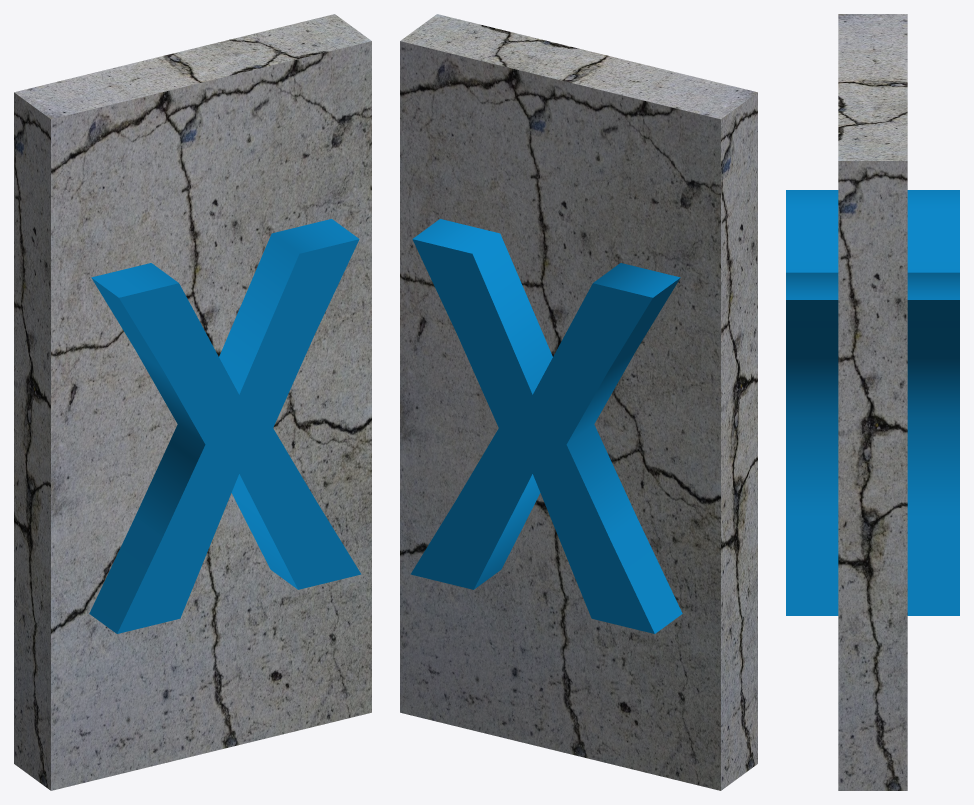
Rendered from stoneHibi_X.fbx.
The picture shows the model from 3 angles, left to right: view 1: azimuth 30°, elevation 25°; view 2: azimuth 150°, elevation 25°; view 3: azimuth 270°, elevation 25°; orthographic projection. The views are drawn at different scales.
Parts seen in each view (by area): view 1: Box001, Box002; view 2: Box001, Box002; view 3: Box001, Box002.
Part boxes in pixels (x1,y1,x2,y2): Box001: (14, 14, 371, 790); Box002: (89, 219, 361, 633); Box001: (400, 14, 757, 790); Box002: (410, 219, 682, 633); Box001: (838, 14, 907, 790); Box002: (786, 190, 959, 615).
Bounding box in the file's own units: 78.74 × 39.37 × 157.
Materials: 2 (2 with a texture image).
